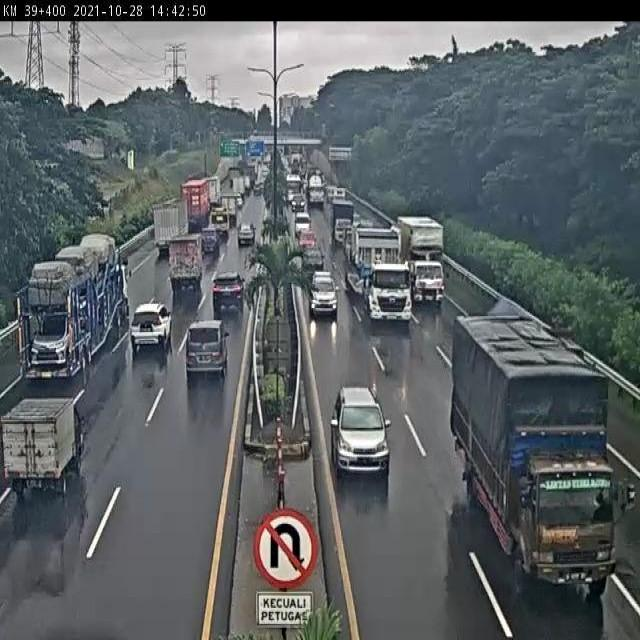big truck: (18, 231, 131, 376)
car: (331, 388, 391, 472), (186, 323, 231, 369), (131, 304, 171, 349), (310, 275, 342, 321), (214, 268, 246, 305), (304, 244, 325, 275), (237, 222, 256, 246), (202, 225, 218, 251)
mid truck: (209, 207, 228, 229)
small truck: (2, 396, 80, 487)
truck-l-: (451, 312, 617, 592), (400, 215, 447, 305)
truck-m-: (170, 230, 206, 290), (151, 200, 192, 249)
truck-xl-: (350, 223, 417, 325)
